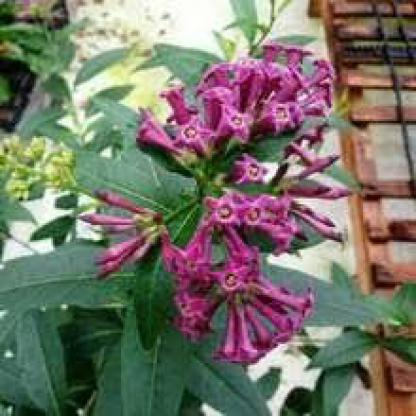Melati: (7, 130, 73, 202)
